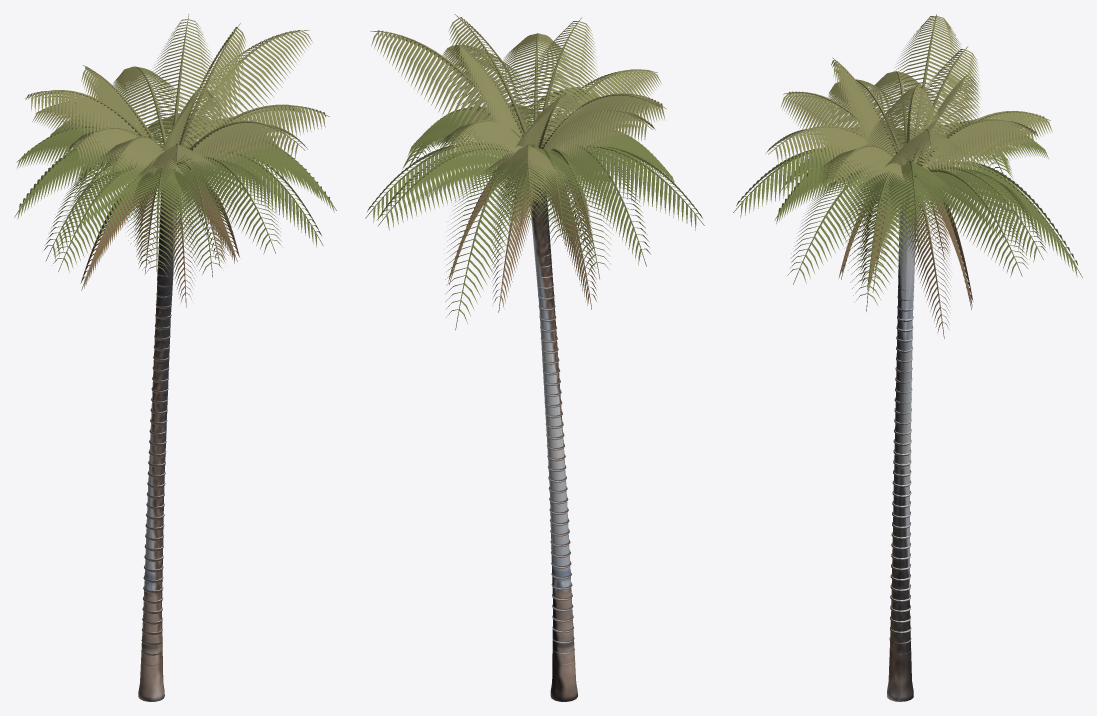
Rendered from coastal-date-palm.glb.
3 renders of one model, left to right at view 1: azimuth 30°, elevation 25°; view 2: azimuth 150°, elevation 25°; view 3: azimuth 270°, elevation 25°, orthographic. The views are drawn at different scales.
Visible parts, largest first — view 1: Frame; view 2: Frame; view 3: Frame.
Part boxes in pixels (bbox=[...]): Frame: bbox=[14, 14, 336, 701]; Frame: bbox=[365, 14, 704, 701]; Frame: bbox=[733, 14, 1082, 701].
Bounding box in the file's own units: 6.18 × 13.22 × 6.35.
4 materials, 1 textured.
